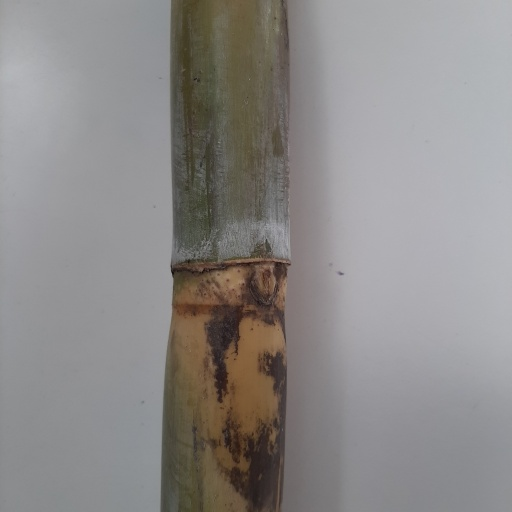Bud: (250, 268, 277, 305)
